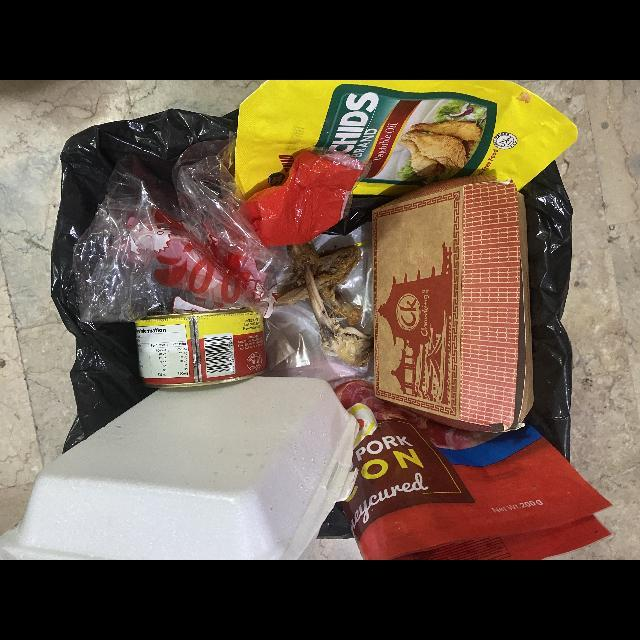biowaste: (272, 239, 374, 367)
metal: (135, 308, 267, 387)
paper: (371, 174, 537, 432)
plastic: (74, 140, 360, 323)
styrofoam: (3, 375, 362, 560)
wrapper: (333, 374, 617, 560), (234, 80, 579, 203)
